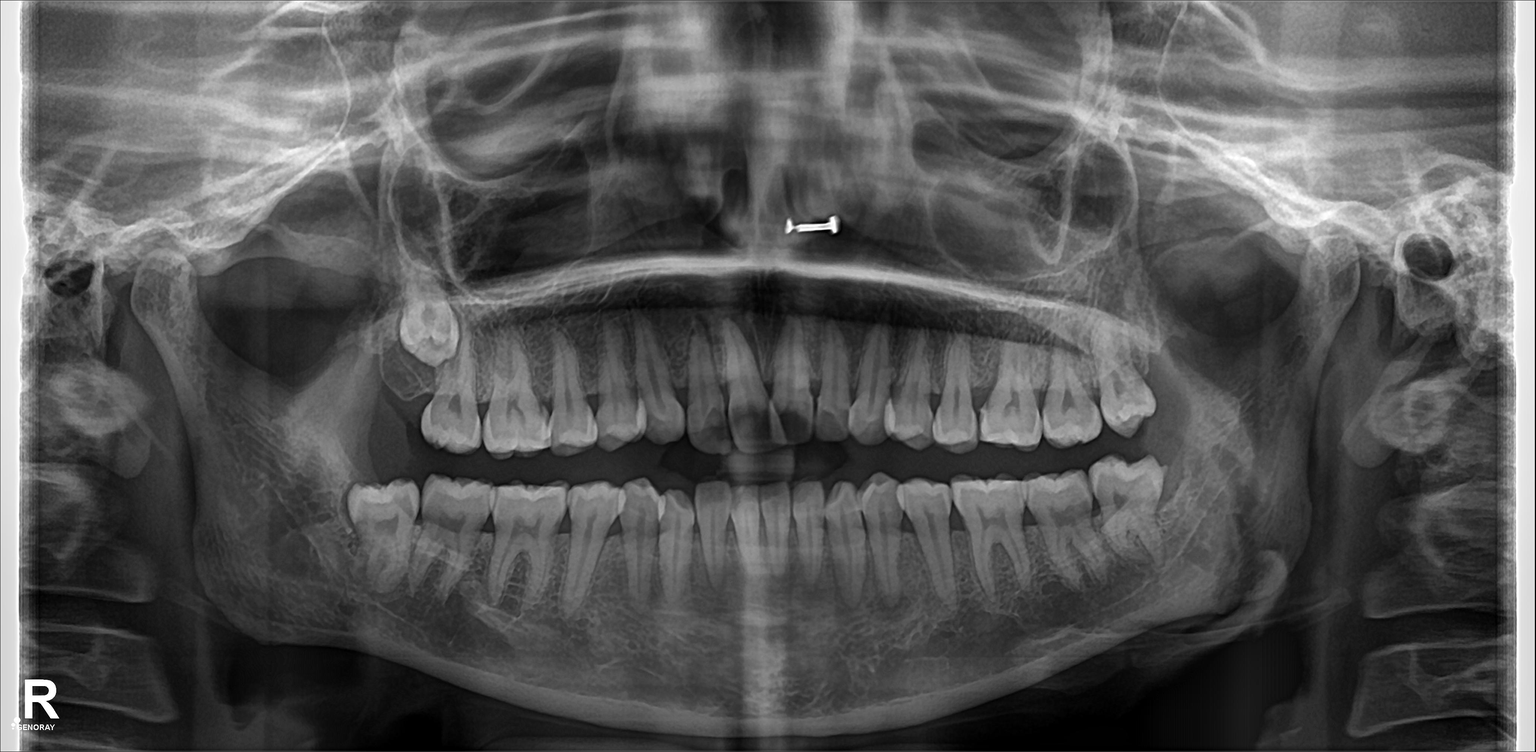Dental Caries: (737, 396, 778, 445), (780, 404, 810, 435), (700, 411, 727, 444)
Impacted Third Molar: (399, 275, 456, 352)
Missing Tooth: (387, 348, 426, 445)
